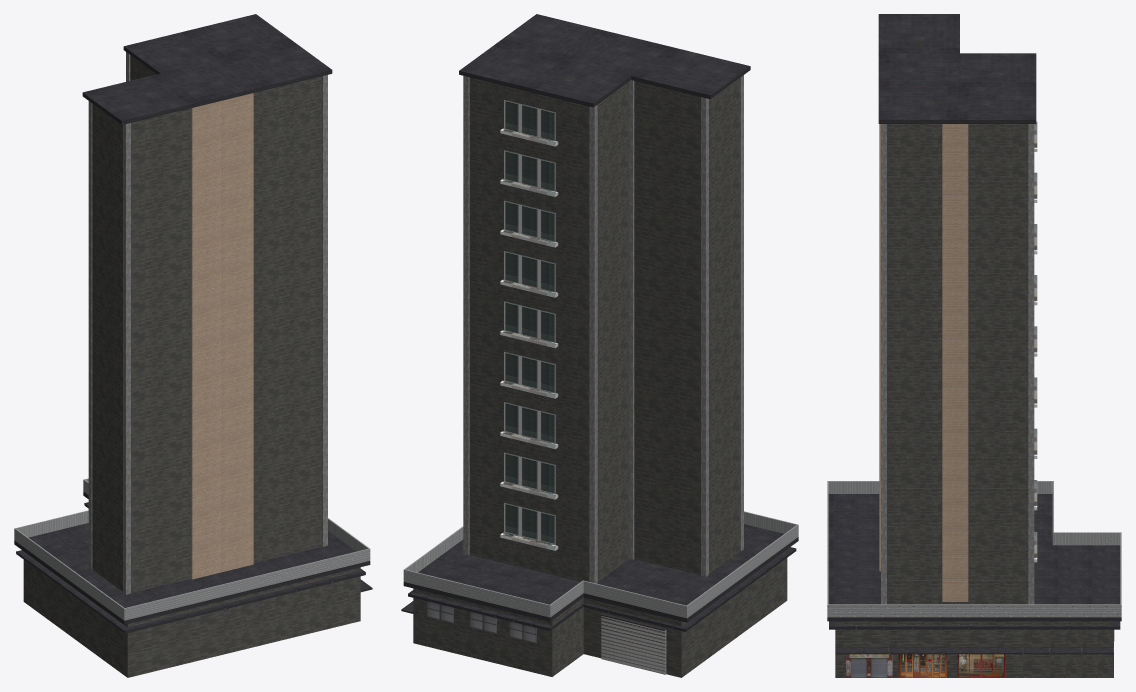
The picture shows the model from 3 angles, left to right: view 1: azimuth 30°, elevation 25°; view 2: azimuth 150°, elevation 25°; view 3: azimuth 270°, elevation 25°; orthographic projection. The views are drawn at different scales.
Visible parts, largest first — view 1: bina.011; view 2: bina.011; view 3: bina.011.
Boxes of the visible parts, x1=… form: bina.011: x1=14, y1=14, x2=372, y2=677; bina.011: x1=401, y1=14, x2=798, y2=677; bina.011: x1=827, y1=14, x2=1121, y2=677.
Size of the model in its own units: 24.7 by 50.28 by 24.2.
1 material, 1 textured.
